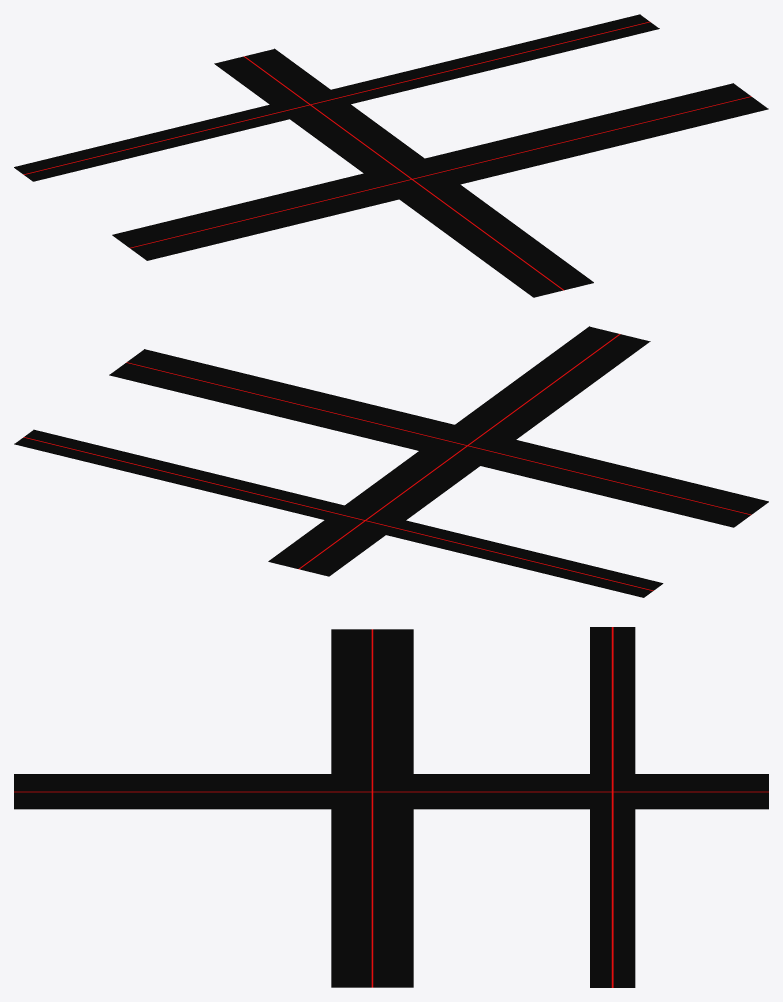
The picture shows the model from 3 angles, top to bottom: view 1: azimuth 30°, elevation 25°; view 2: azimuth 150°, elevation 25°; view 3: azimuth 270°, elevation 25°; orthographic projection. The views are drawn at different scales.
Parts seen in each view (by area): view 1: Plane.001; view 2: Plane.001; view 3: Plane.001.
Boxes of the visible parts, x1=… form: Plane.001: x1=14, y1=14, x2=768, y2=297; Plane.001: x1=14, y1=326, x2=768, y2=597; Plane.001: x1=14, y1=627, x2=768, y2=987.
Size of the model in its own units: 28341 by 32069 by 31.87.
